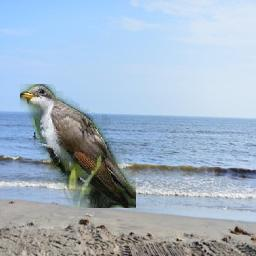Cuckoo: (20, 84, 136, 208)
